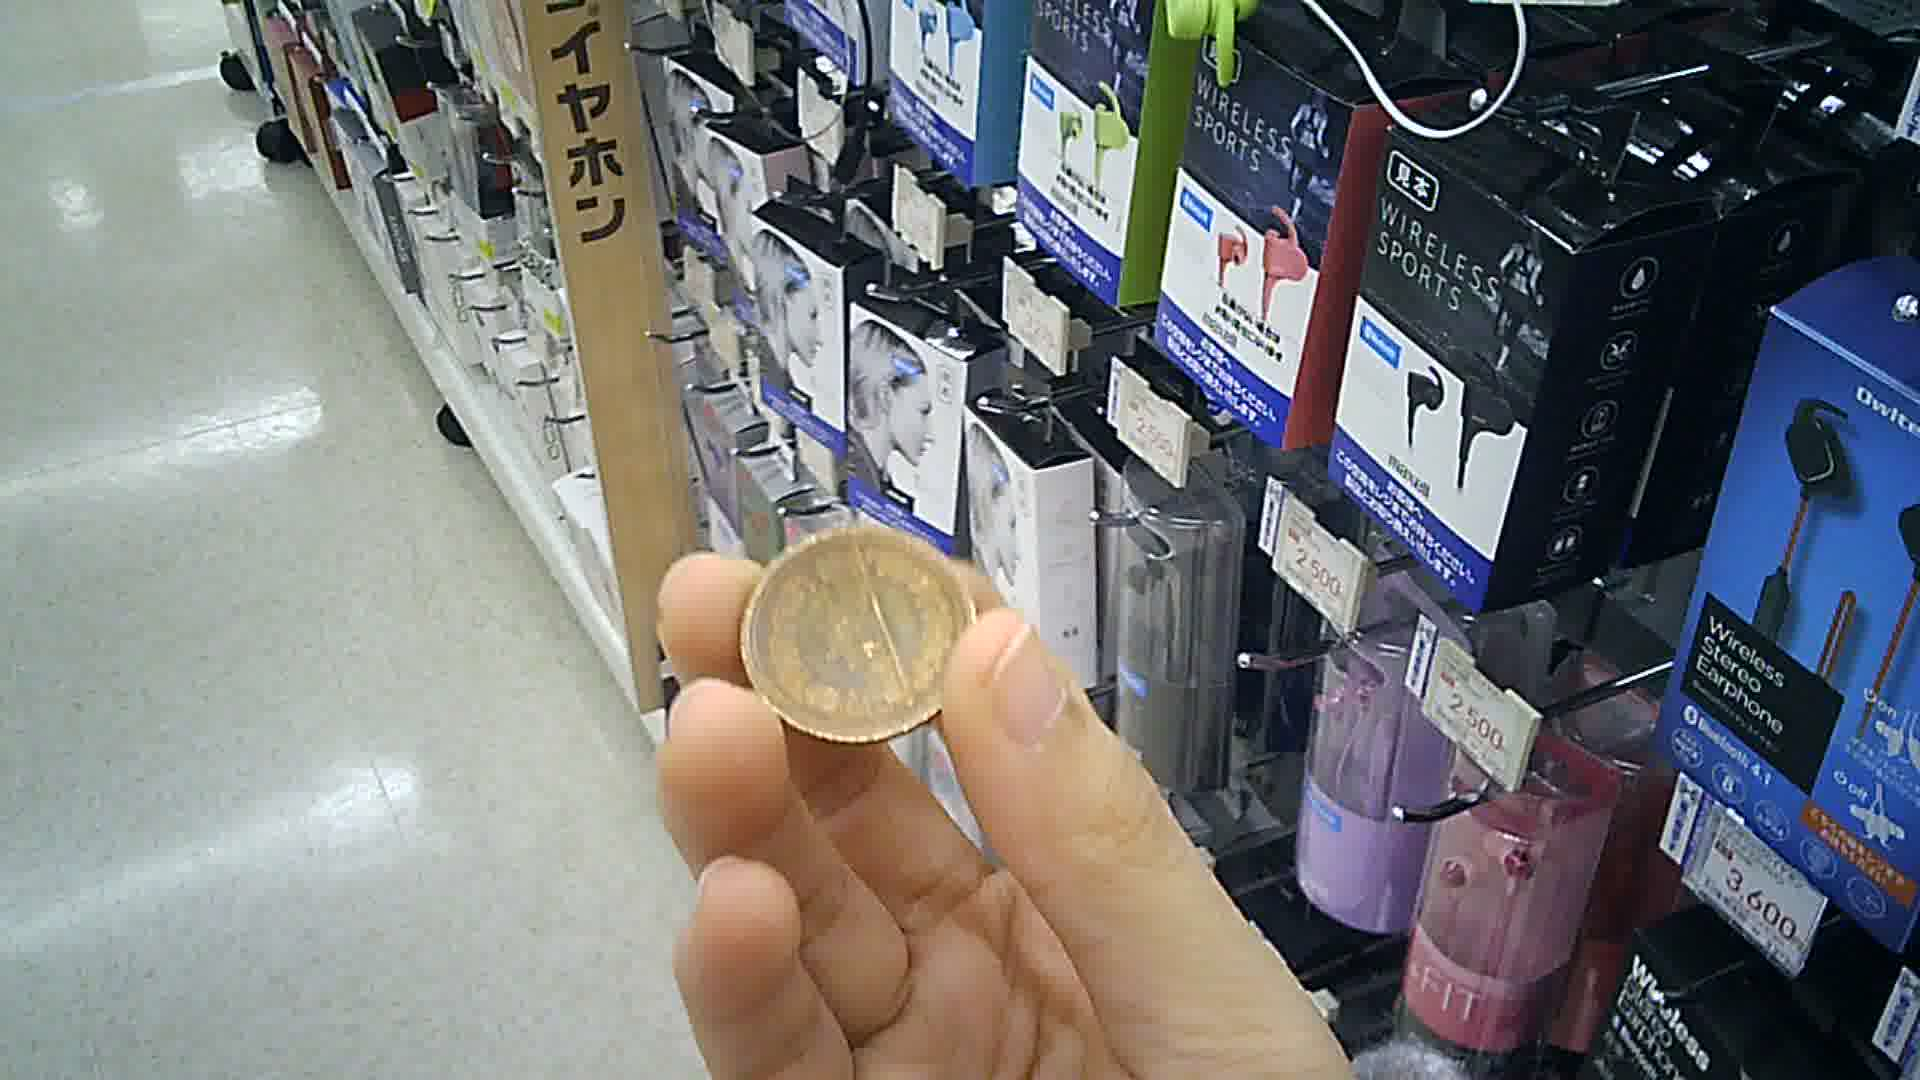10 Yen: (735, 524, 988, 738)
